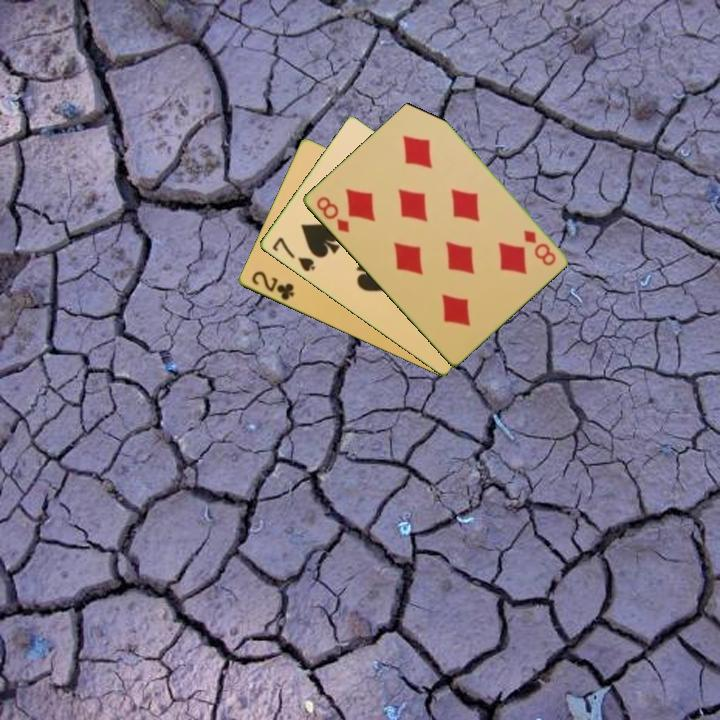2c: (247, 267, 297, 303)
7s: (268, 234, 318, 275)
8d: (312, 193, 352, 236), (519, 226, 559, 269)
